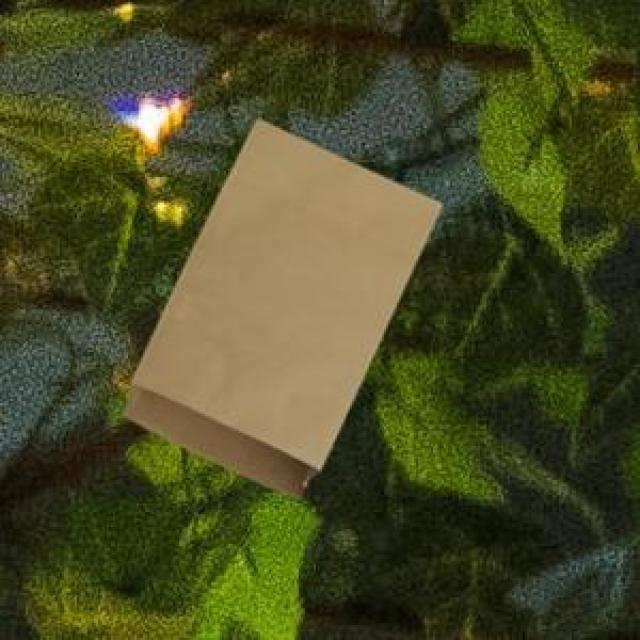paper: (120, 115, 437, 493)
